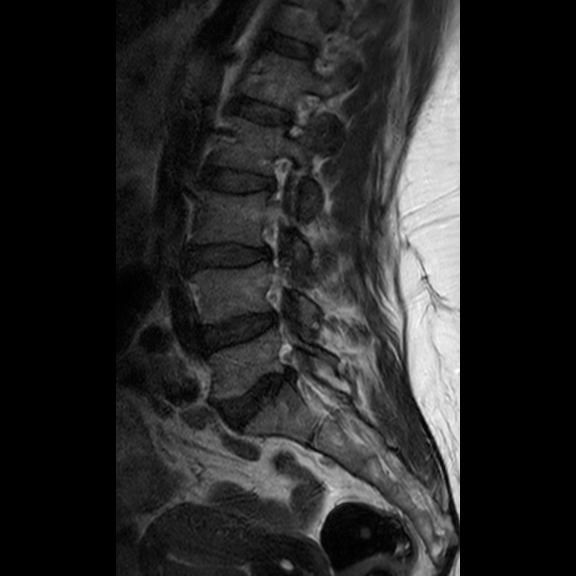RFS0: (251, 143, 297, 208), (271, 84, 323, 141)
